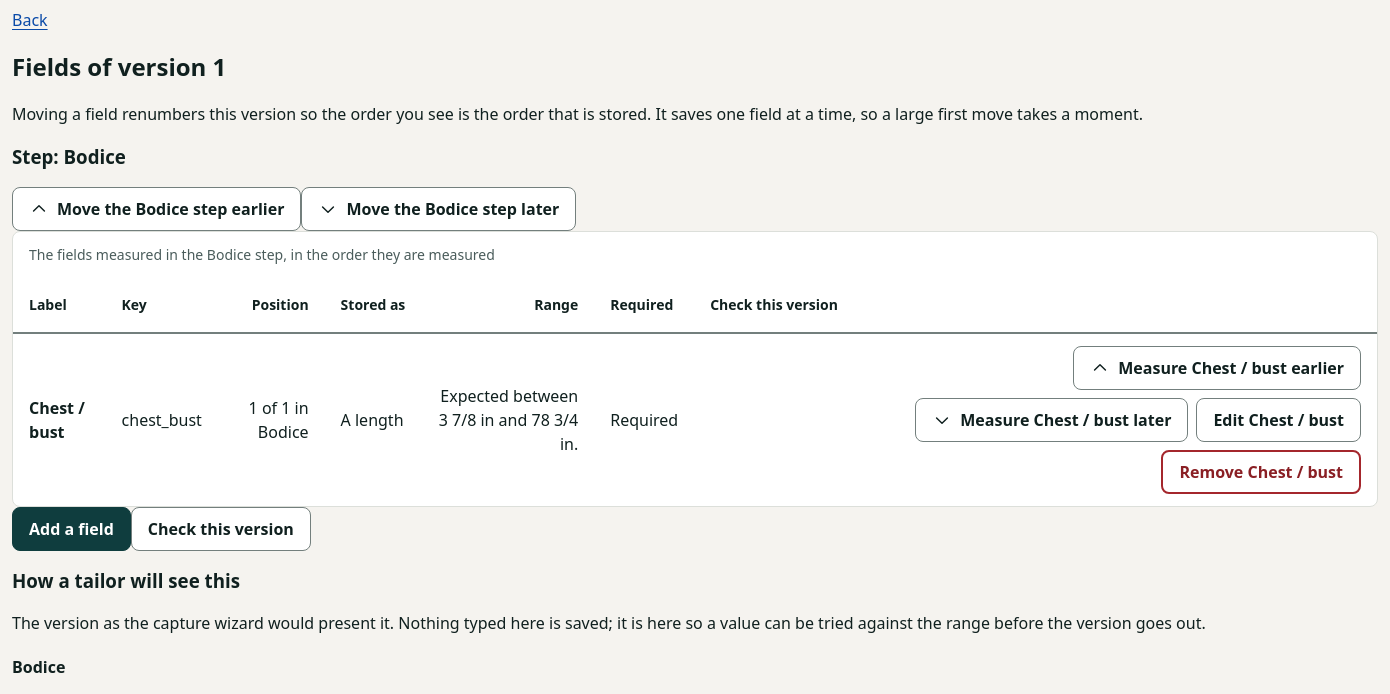
Test: offers a choice field a list and no bands at all, rather than boxes it can never use
Check: the table is shown, box [13,232,1377,506]
Click the button "Add a field".
click(71, 529)  # box [12,507,131,551]
(page scrolled)
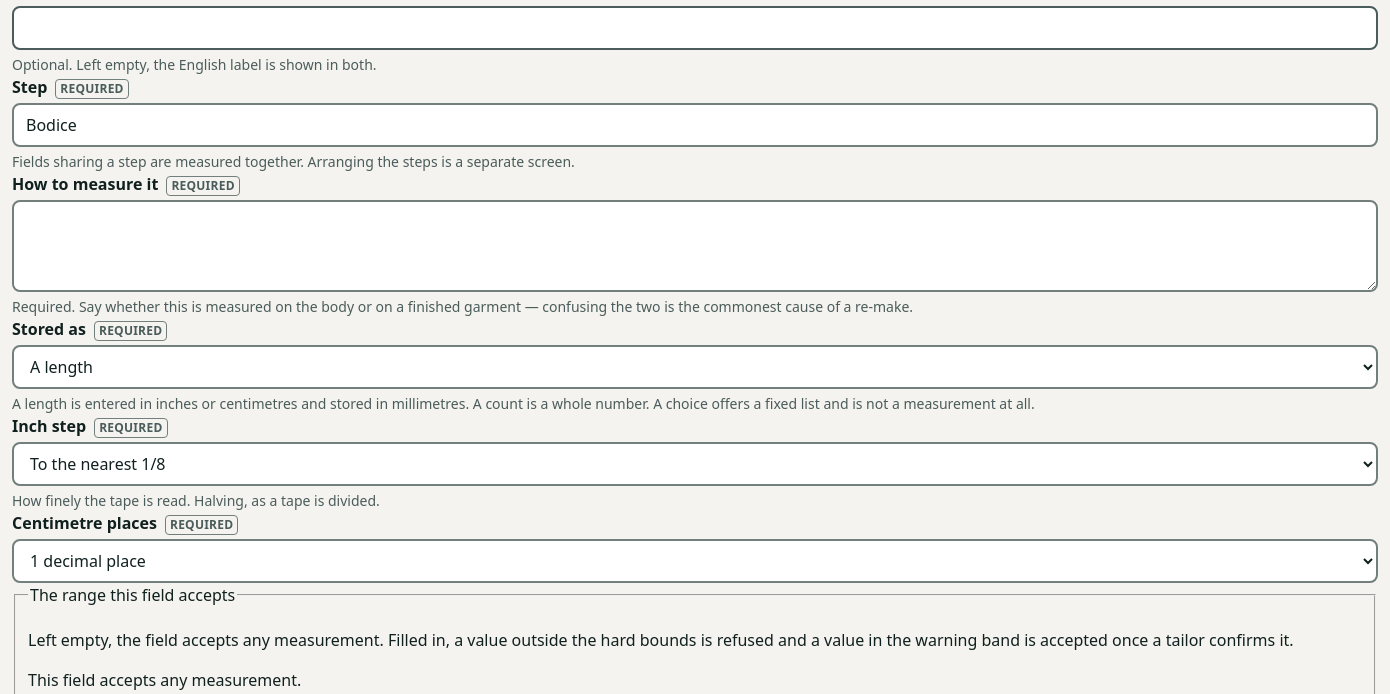
Select "A choice" in the dropdown labelled "Stored as" at (695, 367), box [12,345,1378,389]
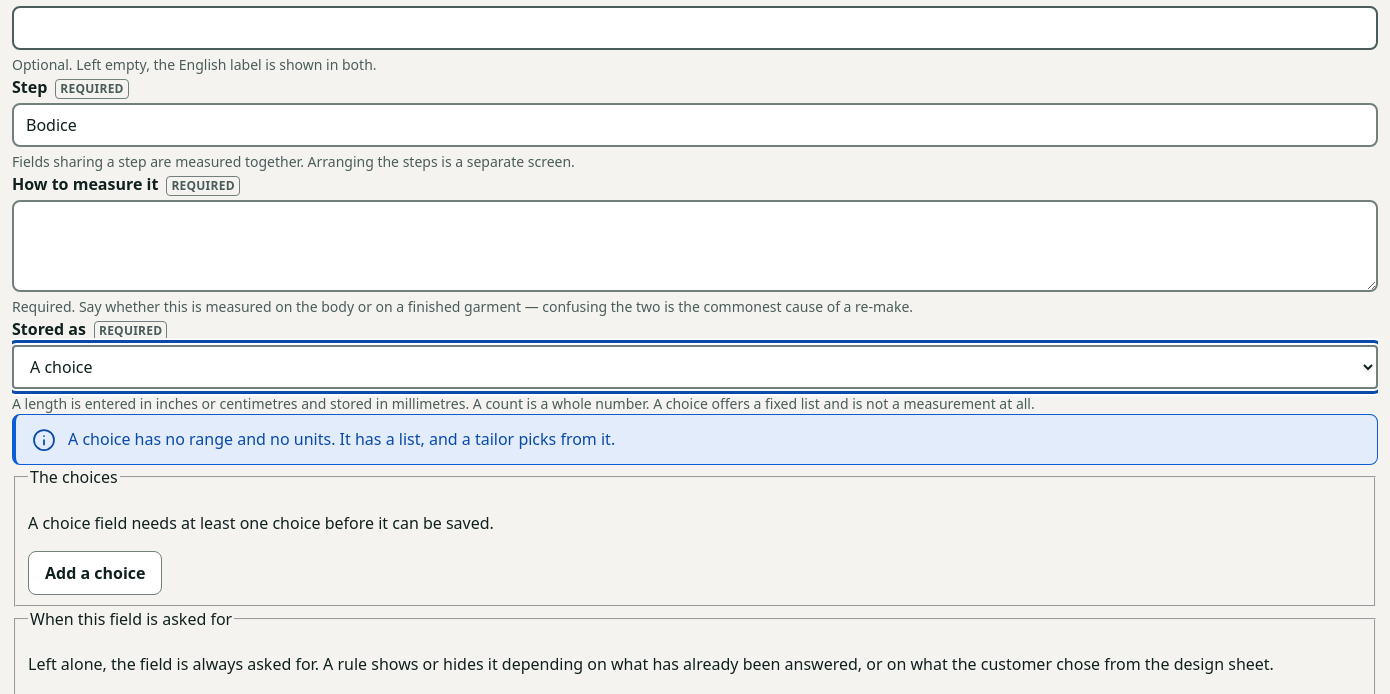
Check: the label labelled "Inch step" is gone
Check: the label labelled "Centimetre places" is gone
Check: the text "A choice has no range and no units" is shown, box [68,428,615,450]
